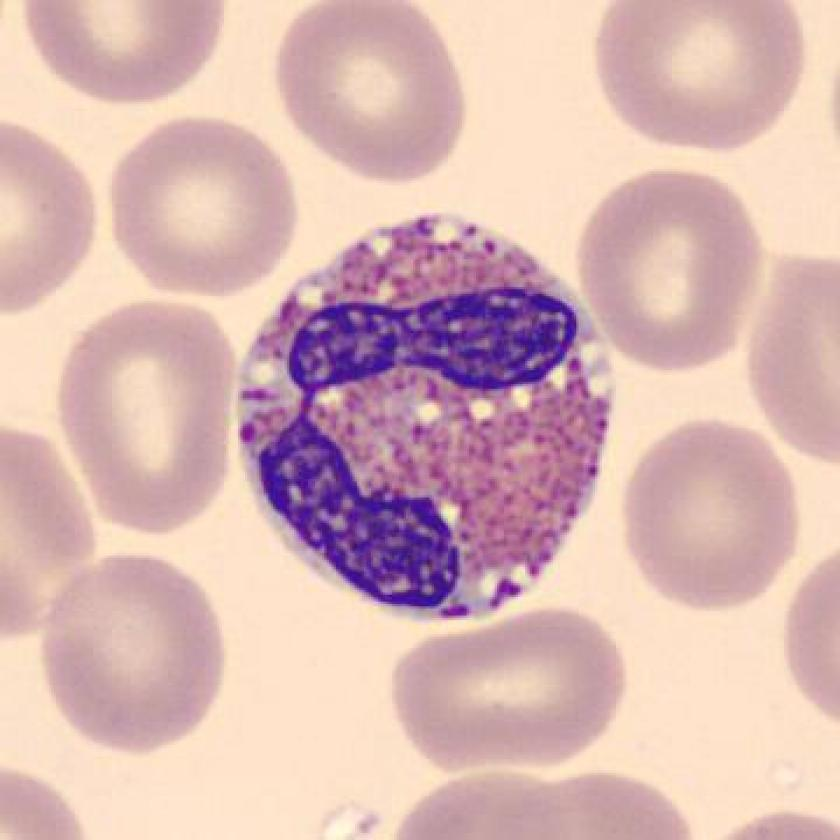eosinophil: (225, 202, 626, 635)
